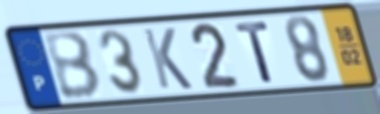2: (190, 20, 244, 92)
3: (97, 28, 144, 98)
8: (284, 13, 332, 85)
B: (40, 29, 105, 102)
K: (139, 26, 195, 91)
T: (232, 19, 277, 85)
